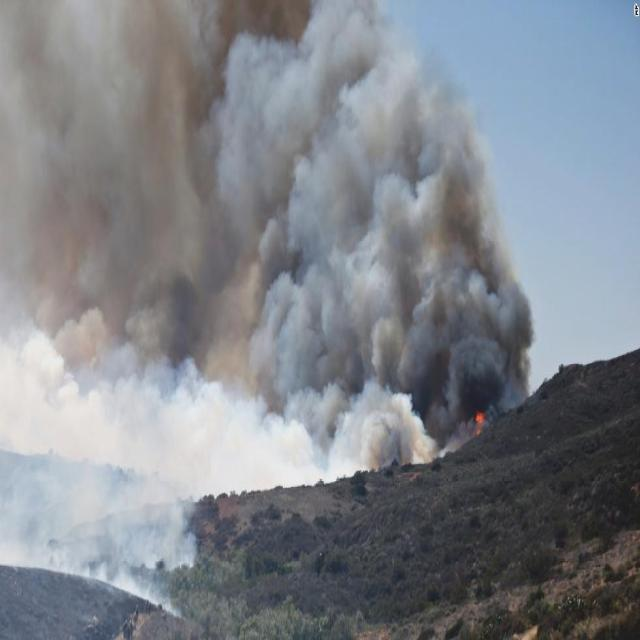Fire: (474, 409, 484, 436)
Smoke: (1, 1, 536, 617)
